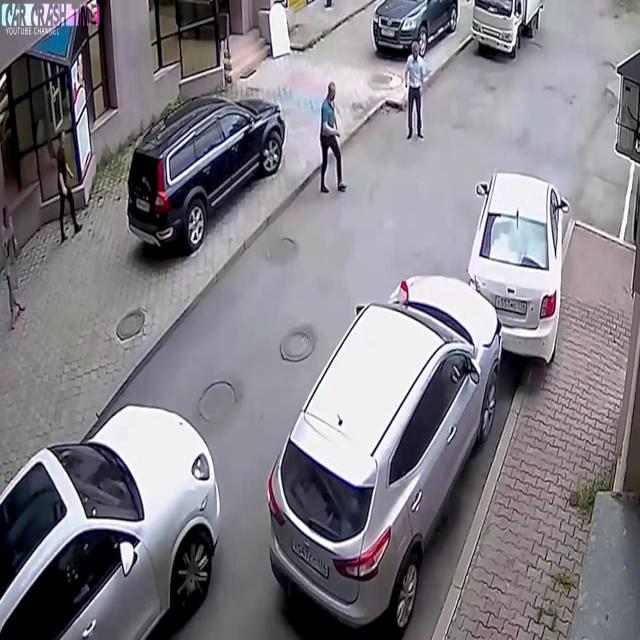accident: (267, 155, 572, 640)
